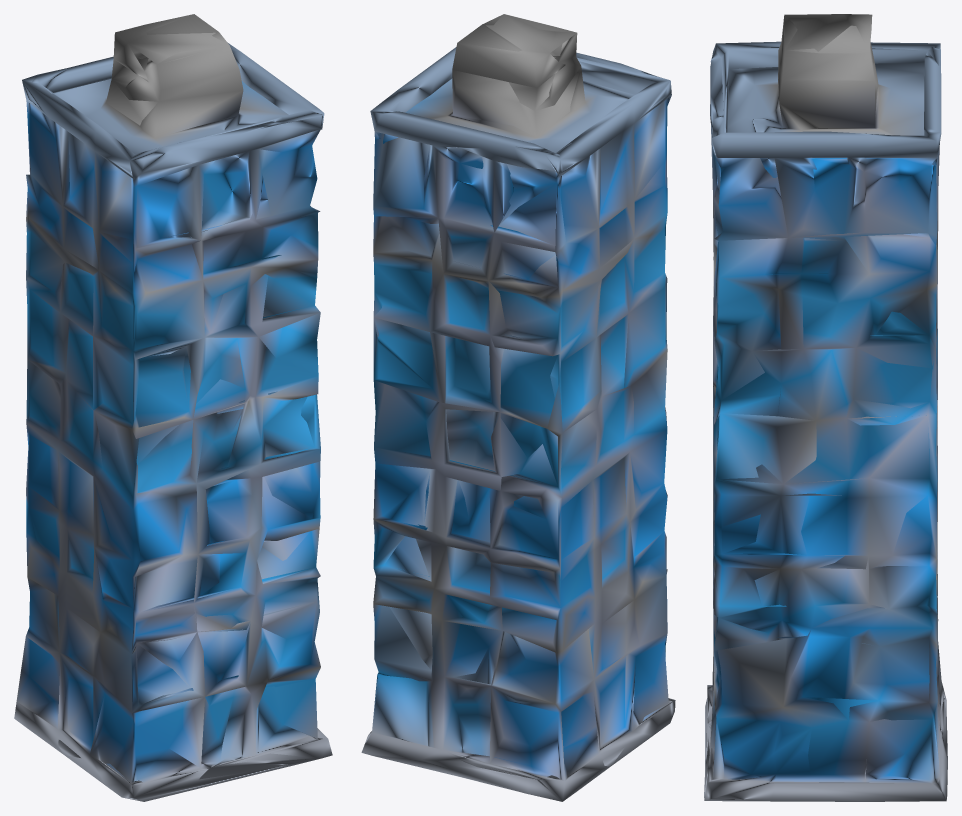
Rendered from gen3d-glass-office-tower-lod0.glb.
3 renders of one model, left to right at view 1: azimuth 30°, elevation 25°; view 2: azimuth 150°, elevation 25°; view 3: azimuth 270°, elevation 25°, orthographic. The views are drawn at different scales.
Visible parts, largest first — view 1: part_0; view 2: part_0; view 3: part_0.
Part boxes in pixels (<box>): part_0: <box>14,14,332,801</box>; part_0: <box>361,14,675,801</box>; part_0: <box>704,14,947,801</box>.
Bounding box in the file's own units: 0.3021 × 0.9995 × 0.3069.
